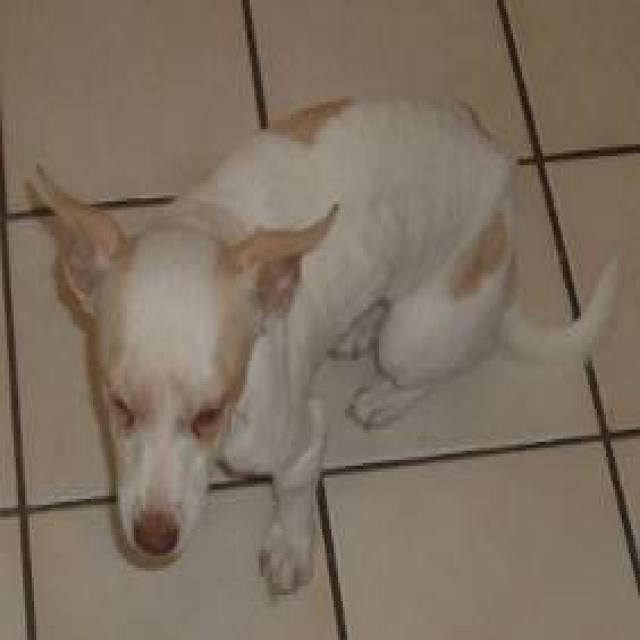dog: (25, 90, 620, 595)
